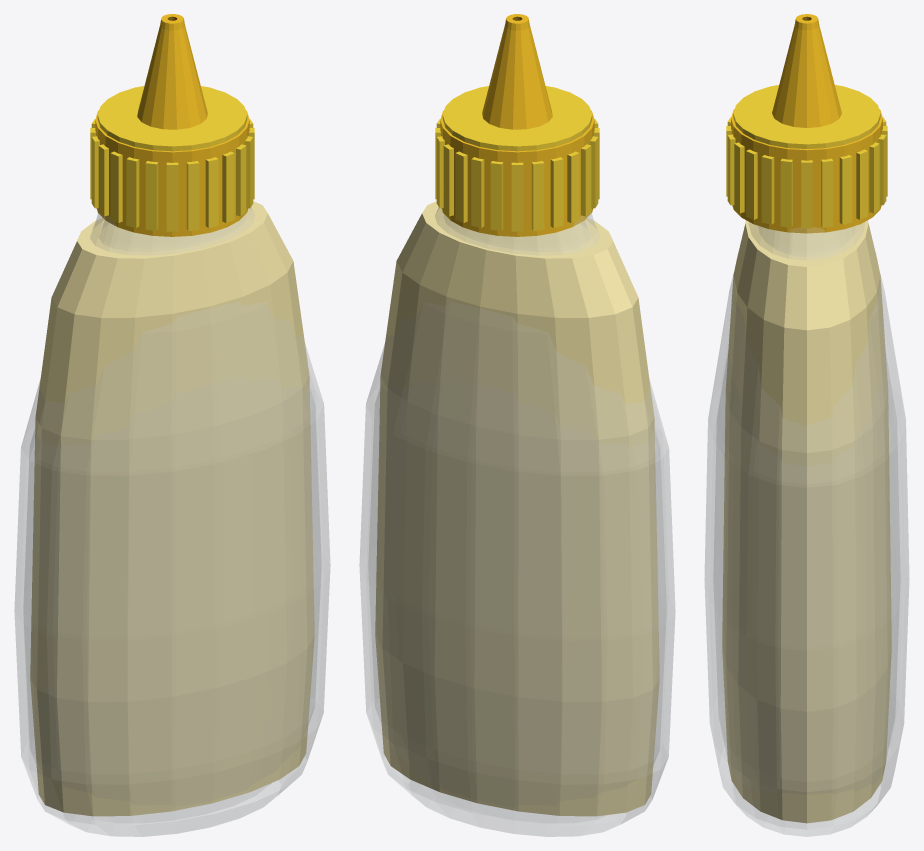
Rendered from Production_SauceTube_S1.glb.
The picture shows the model from 3 angles, left to right: view 1: azimuth 30°, elevation 25°; view 2: azimuth 150°, elevation 25°; view 3: azimuth 270°, elevation 25°; orthographic projection.
Parts seen in each view (by area): view 1: SauceTube_Bottle, SauceFill; view 2: SauceTube_Bottle, SauceFill; view 3: SauceTube_Bottle, SauceFill.
Boxes of the visible parts, box(x1,y1,x2,y2) form: SauceTube_Bottle: box(14, 14, 330, 836); SauceFill: box(30, 201, 314, 816); SauceTube_Bottle: box(359, 14, 675, 836); SauceFill: box(375, 201, 659, 816); SauceTube_Bottle: box(704, 14, 909, 836); SauceFill: box(722, 220, 891, 823).
Bounding box in the file's own units: 0.48 × 1.2 × 0.29.
